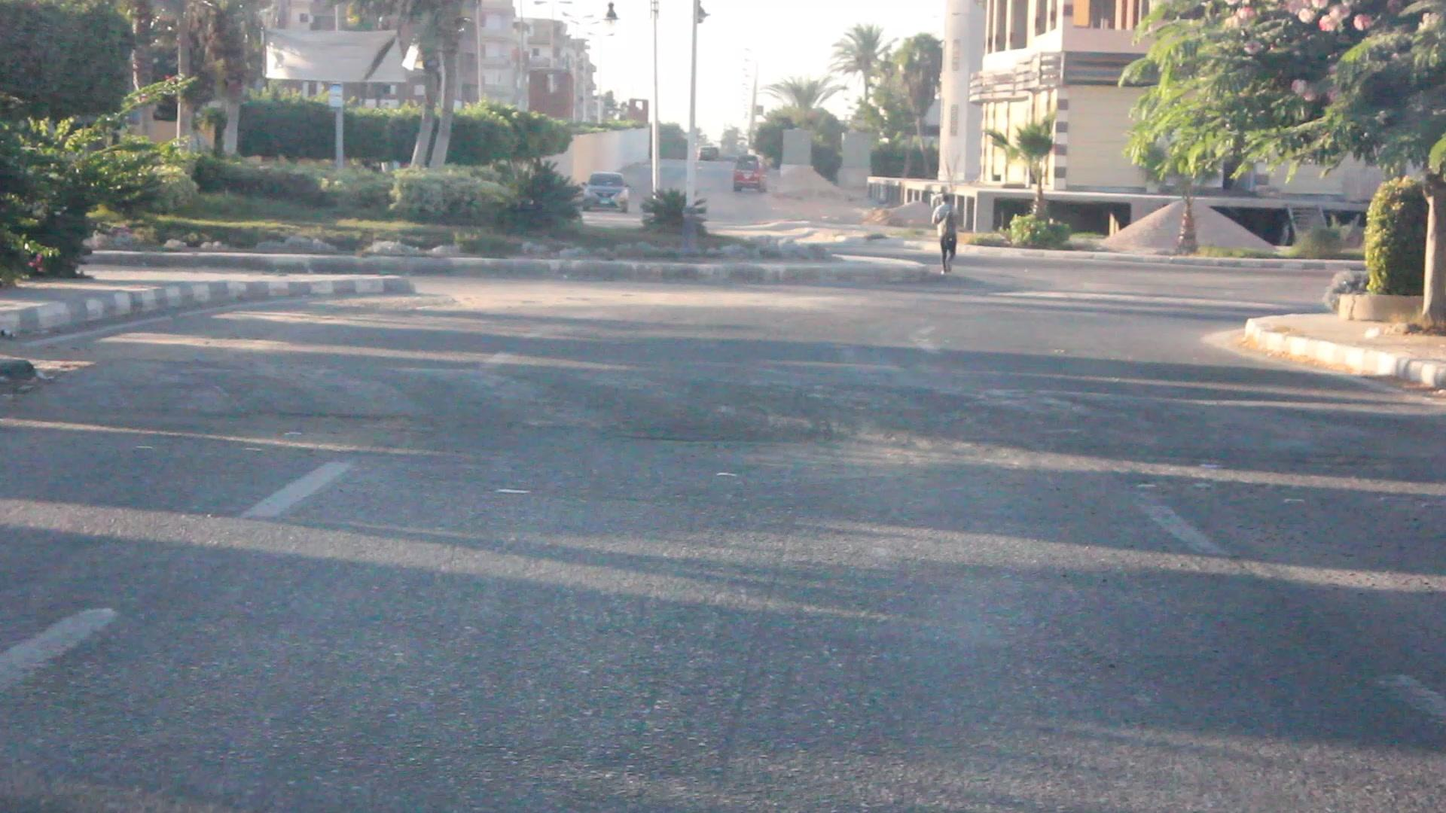Bump: (30, 337, 1446, 472)
